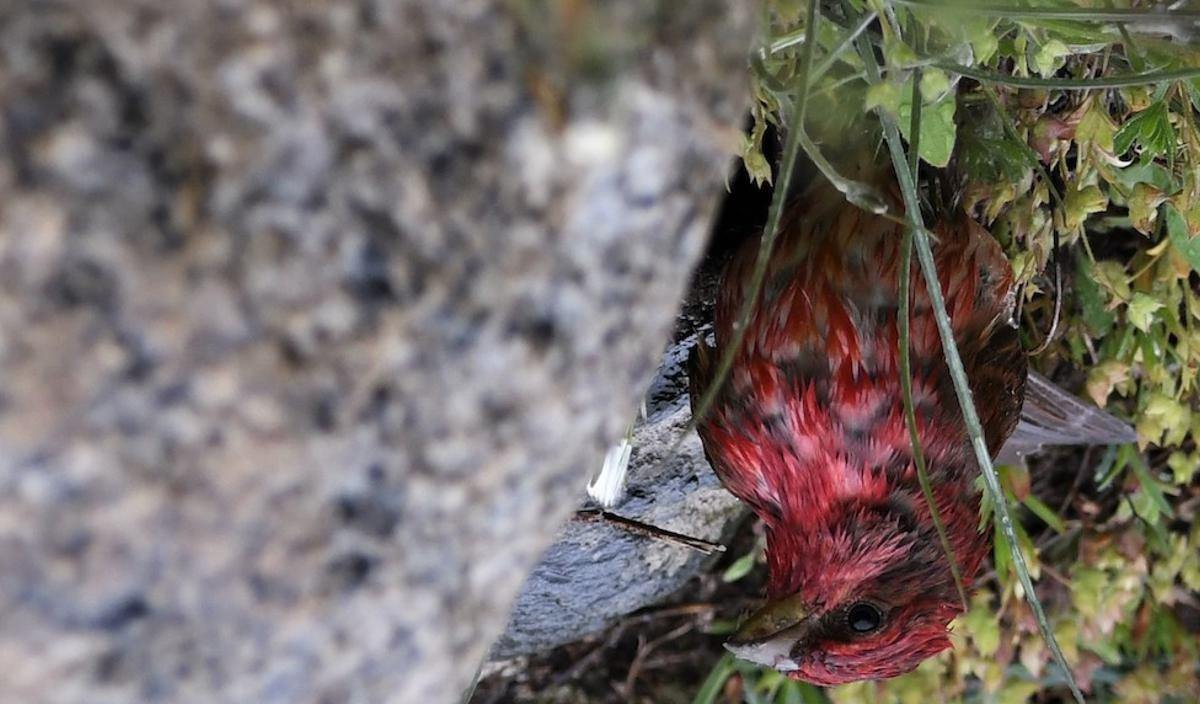rosefinch: (709, 106, 1066, 694)
